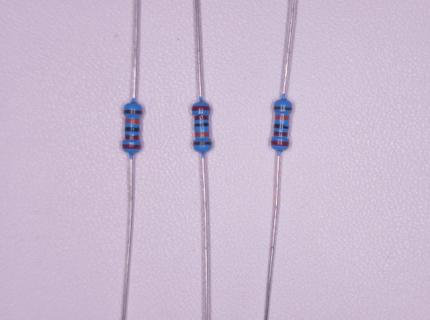Black band: (125, 127, 139, 132), (274, 124, 288, 129), (195, 123, 209, 127)
Brown band: (124, 110, 143, 114), (193, 141, 211, 145), (274, 106, 292, 110)
Orange band: (275, 115, 289, 121), (125, 119, 140, 123), (195, 133, 209, 137)
Red band: (271, 140, 289, 147), (192, 106, 210, 111), (122, 145, 141, 149), (125, 135, 139, 140), (274, 131, 288, 136), (195, 116, 209, 120)
